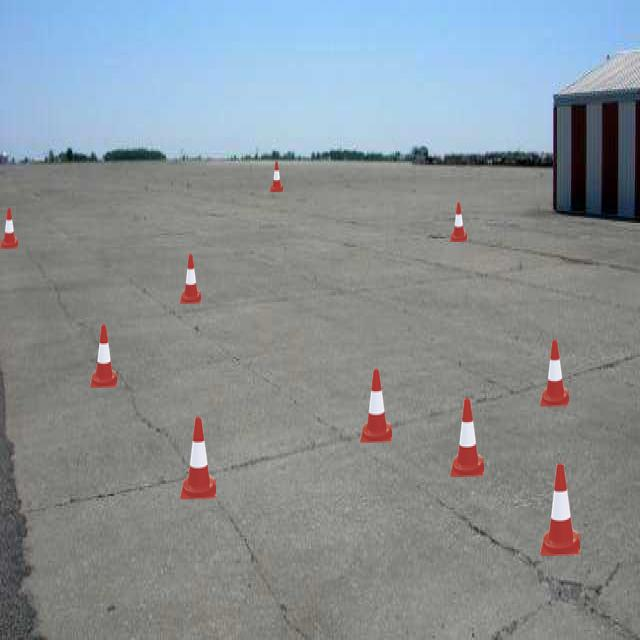orange_cone: (540, 463, 580, 556), (180, 417, 216, 499), (450, 398, 484, 477), (360, 369, 392, 443), (540, 339, 569, 406), (90, 324, 117, 388), (180, 254, 201, 304), (0, 208, 18, 248), (450, 202, 467, 242), (270, 161, 283, 192)
